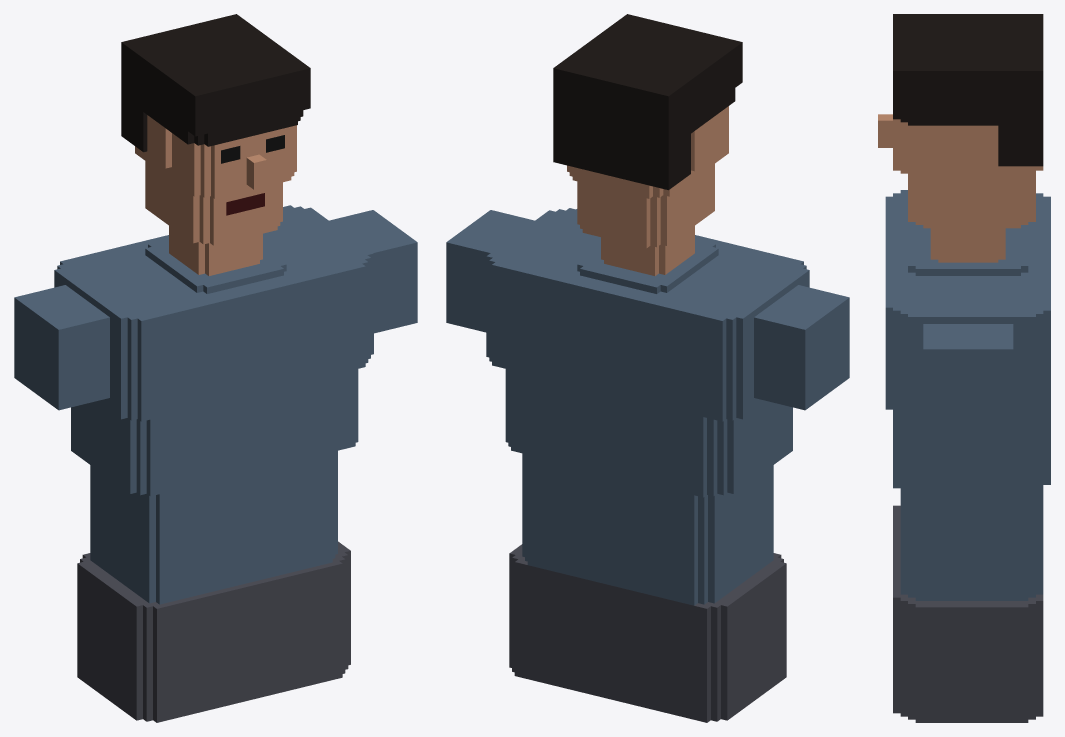
Rendered from player_bust.glb.
3 views of the same model, side by side, from view 1: azimuth 30°, elevation 25°; view 2: azimuth 150°, elevation 25°; view 3: azimuth 270°, elevation 25° (orthographic).
Visible parts, largest first — view 1: torso:torso, head:head; view 2: torso:torso, head:head; view 3: torso:torso, head:head.
Boxes of the visible parts, x1,y1,x2,y2 form: torso:torso: (14, 205, 417, 722); head:head: (121, 14, 310, 245); torso:torso: (446, 208, 849, 722); head:head: (553, 14, 742, 248); torso:torso: (885, 190, 1050, 722); head:head: (878, 14, 1043, 228).
Size of the model in its own units: 0.56 by 0.92 by 0.23.
